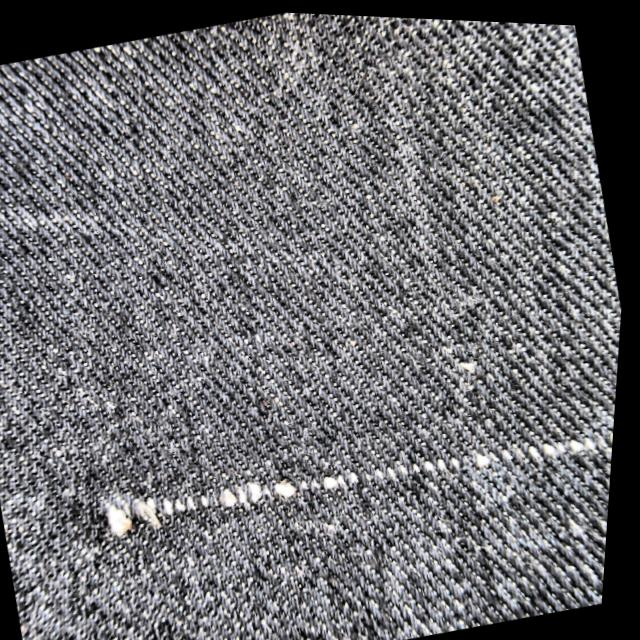Hole: (427, 377, 621, 510), (54, 457, 232, 578), (244, 427, 395, 520)
